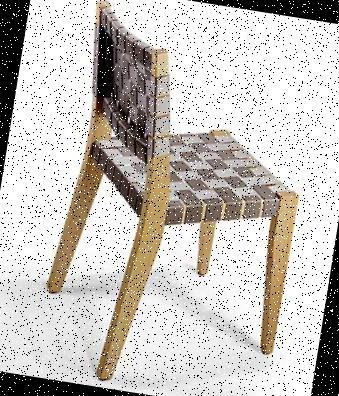Silla: (41, 4, 319, 395)
